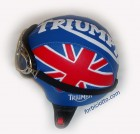helmet: (22, 22, 117, 97)
